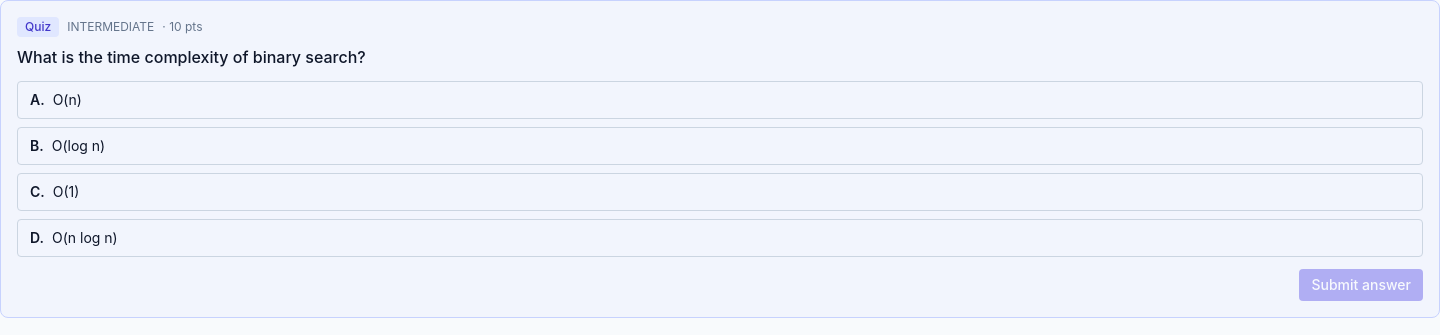
rendering an unanswered quiz › disables submit until an option is chosen
Expected: the button "Submit answer" is disabled, left=1300, top=269, right=1423, bottom=301
Click the button "B.O(log n)".
click(78, 146)  # box left=17, top=127, right=1423, bottom=165
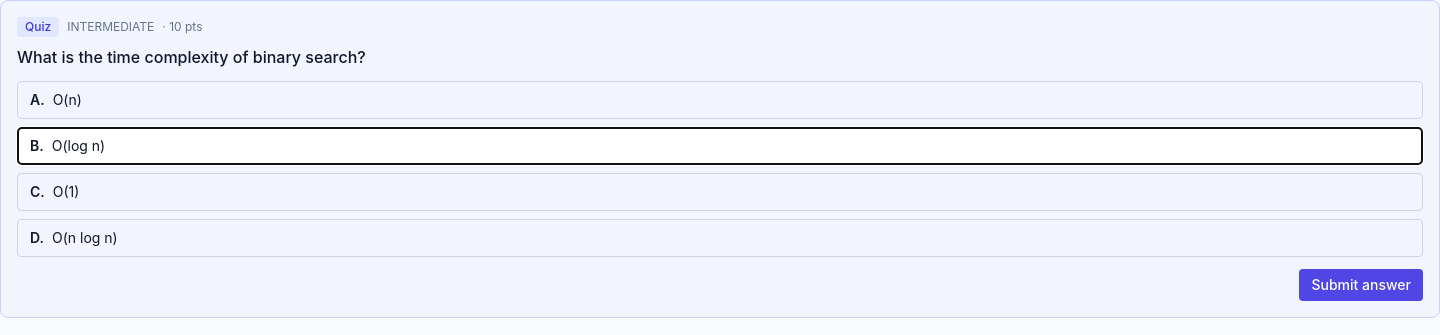
Now the button "Submit answer" is enabled, box left=1300, top=269, right=1423, bottom=301
